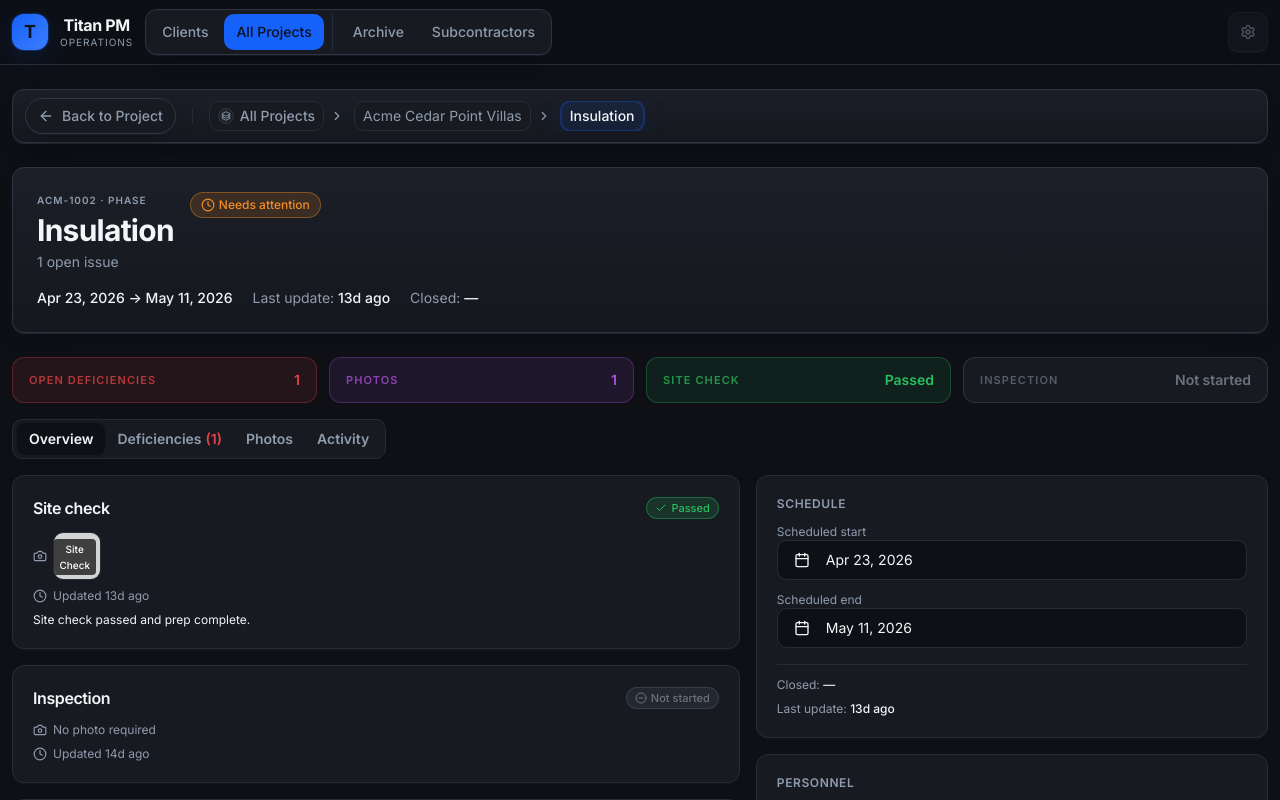
Test: PhaseDetailPage desktop status rail › opens the deficiencies tab from the open deficiencies summary
Expected: the heading "Insulation" is shown, 37,212 -> 174,248
Click the button with aria-label "open deficiencies: 1".
click(93, 380)  # box 12,357 -> 317,403
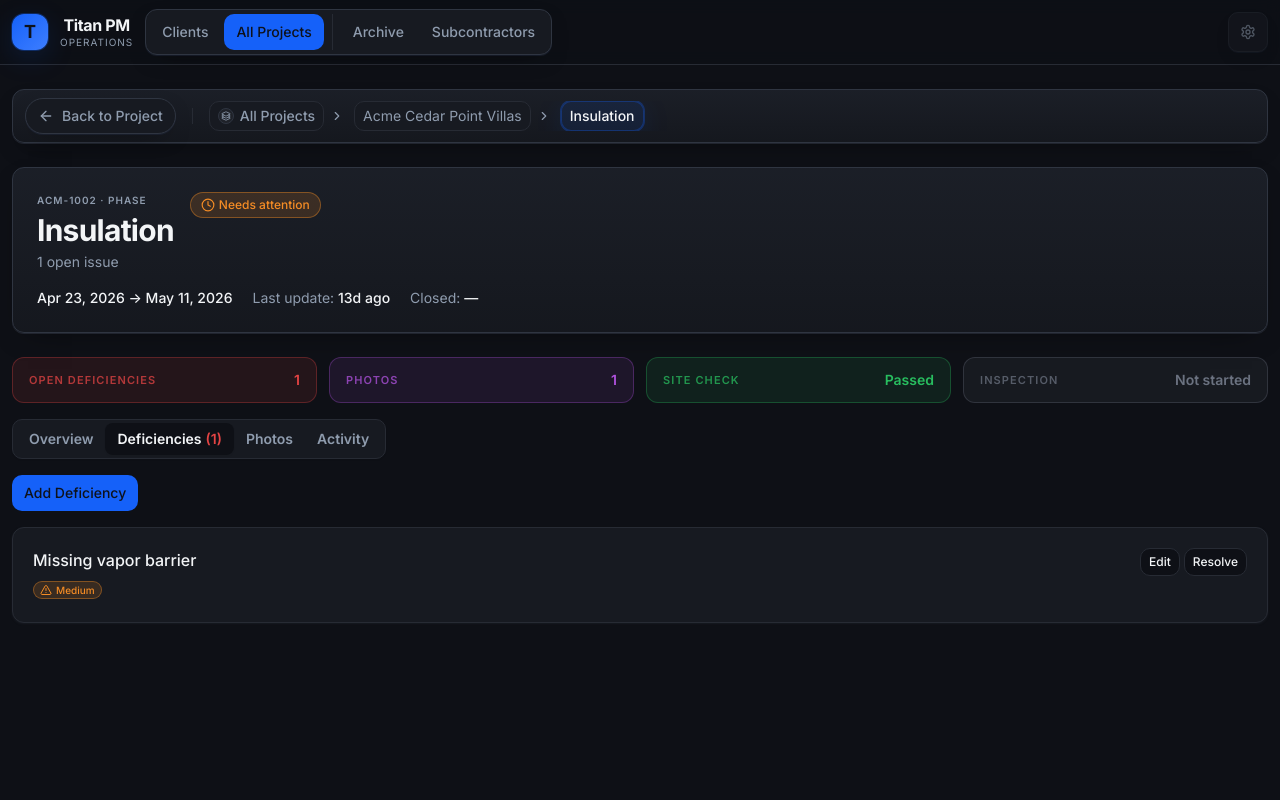
Now the button "Add Deficiency" is shown, box 12,475 -> 138,511
